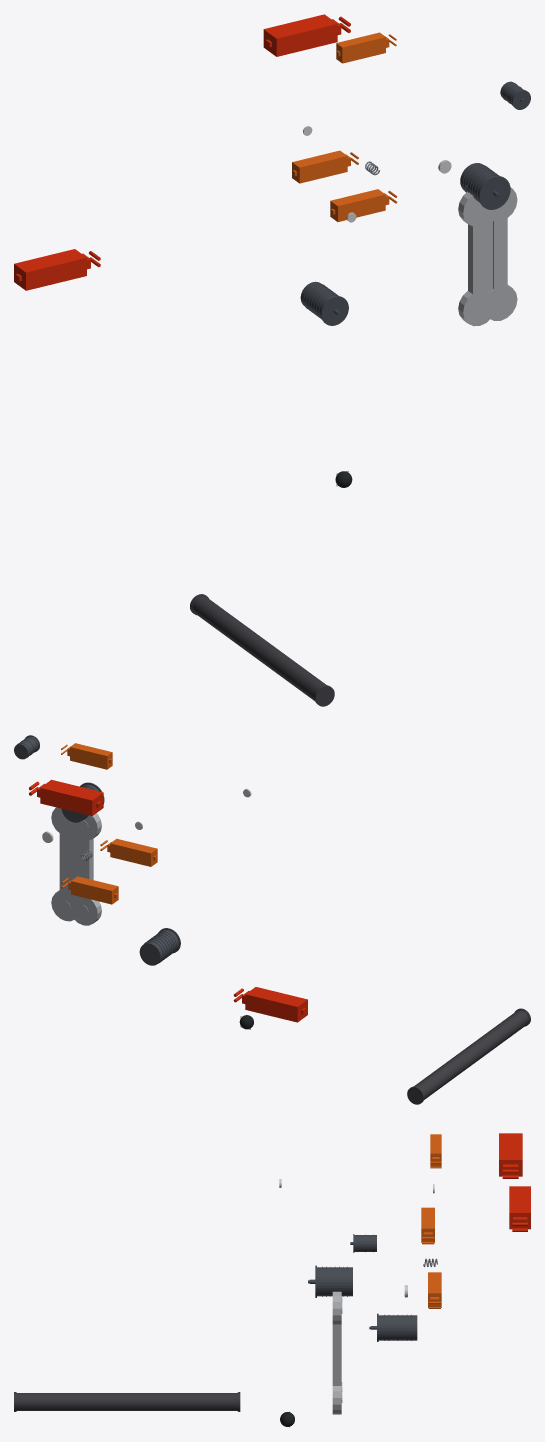
File: gen79_exploded.glb
3 renders of one model, top to bottom at view 1: azimuth 30°, elevation 25°; view 2: azimuth 150°, elevation 25°; view 3: azimuth 270°, elevation 25°, orthographic. The views are drawn at different scales.
Parts seen in each view (by area): view 1: alloy_chassis_46010e8b_x_x, carbon_tube_fb4a1dca, high_power_lipo_4b6909da, high_power_lipo_53606a64, brushless_motor_dac1ba68_x_x_x_x, brushless_motor_dac1ba68_x_x, compact_lipo_73f04445_x_x, compact_lipo_95078d9e, compact_lipo_3f46917b_x_x; view 2: alloy_chassis_46010e8b_x_x, carbon_tube_fb4a1dca, high_power_lipo_4b6909da, high_power_lipo_53606a64, brushless_motor_dac1ba68_x_x, compact_lipo_95078d9e, compact_lipo_73f04445_x_x, compact_lipo_3f46917b_x_x, brushless_motor_compact_84b8d6d2_x_x; view 3: carbon_tube_fb4a1dca, alloy_chassis_46010e8b_x_x, brushless_motor_dac1ba68_x_x_x_x, brushless_motor_dac1ba68_x_x, high_power_lipo_4b6909da, high_power_lipo_53606a64, compact_lipo_73f04445_x_x, compact_lipo_95078d9e, brushless_motor_compact_84b8d6d2_x_x, compact_lipo_3f46917b_x_x.
Boxes of the visible parts, x1=… form: alloy_chassis_46010e8b_x_x: x1=458, y1=187, x2=517, y2=326; carbon_tube_fb4a1dca: x1=190, y1=594, x2=334, y2=706; high_power_lipo_4b6909da: x1=263, y1=14, x2=350, y2=56; high_power_lipo_53606a64: x1=14, y1=249, x2=100, y2=290; brushless_motor_dac1ba68_x_x_x_x: x1=460, y1=163, x2=510, y2=209; brushless_motor_dac1ba68_x_x: x1=300, y1=281, x2=348, y2=325; compact_lipo_73f04445_x_x: x1=292, y1=150, x2=358, y2=183; compact_lipo_95078d9e: x1=330, y1=189, x2=397, y2=221; compact_lipo_3f46917b_x_x: x1=336, y1=32, x2=396, y2=63; alloy_chassis_46010e8b_x_x: x1=51, y1=807, x2=101, y2=925; carbon_tube_fb4a1dca: x1=407, y1=1008, x2=530, y2=1104; high_power_lipo_4b6909da: x1=29, y1=779, x2=103, y2=815; high_power_lipo_53606a64: x1=233, y1=987, x2=307, y2=1022; brushless_motor_dac1ba68_x_x: x1=139, y1=928, x2=180, y2=965; compact_lipo_95078d9e: x1=61, y1=876, x2=118, y2=904; compact_lipo_73f04445_x_x: x1=100, y1=838, x2=157, y2=866; compact_lipo_3f46917b_x_x: x1=61, y1=743, x2=112, y2=769; brushless_motor_compact_84b8d6d2_x_x: x1=14, y1=735, x2=39, y2=759; carbon_tube_fb4a1dca: x1=14, y1=1392, x2=240, y2=1411; alloy_chassis_46010e8b_x_x: x1=332, y1=1291, x2=342, y2=1414; brushless_motor_dac1ba68_x_x_x_x: x1=308, y1=1265, x2=352, y2=1297; brushless_motor_dac1ba68_x_x: x1=369, y1=1313, x2=417, y2=1341; high_power_lipo_4b6909da: x1=499, y1=1133, x2=522, y2=1178; high_power_lipo_53606a64: x1=509, y1=1186, x2=530, y2=1231; compact_lipo_73f04445_x_x: x1=421, y1=1207, x2=434, y2=1244; compact_lipo_95078d9e: x1=428, y1=1272, x2=441, y2=1308; brushless_motor_compact_84b8d6d2_x_x: x1=350, y1=1234, x2=376, y2=1252; compact_lipo_3f46917b_x_x: x1=430, y1=1134, x2=441, y2=1168.
Size of the model in its own units: 0.9652 by 0.94 by 1.14.
